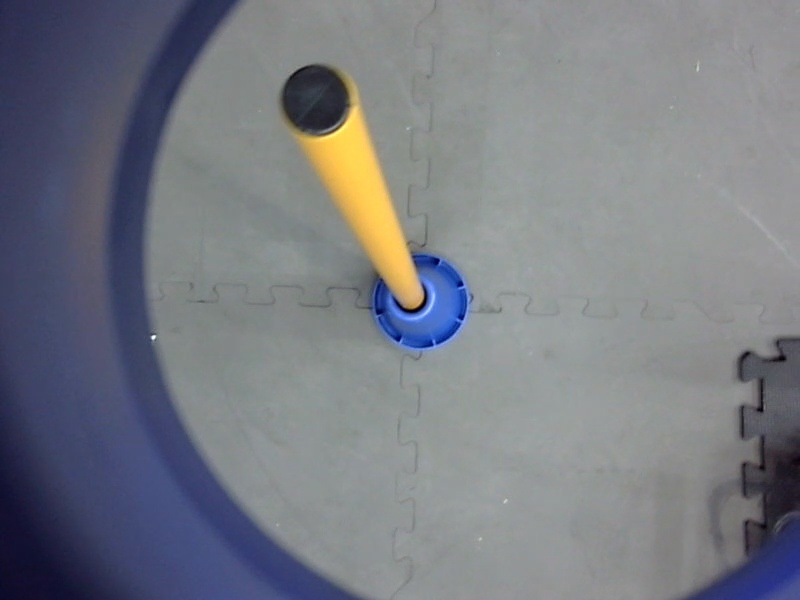tip: (273, 57, 364, 146)
